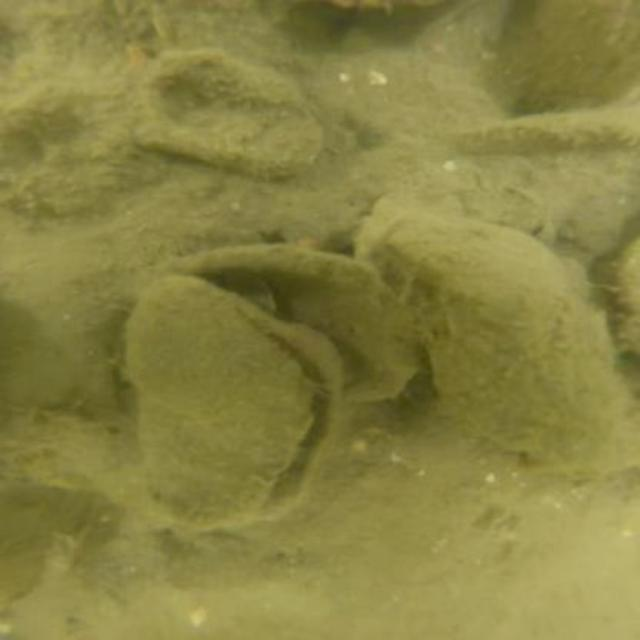Oyster-Closed: (358, 198, 640, 487)
Oyster-Open: (122, 273, 344, 537), (130, 251, 424, 414), (134, 48, 328, 184)
